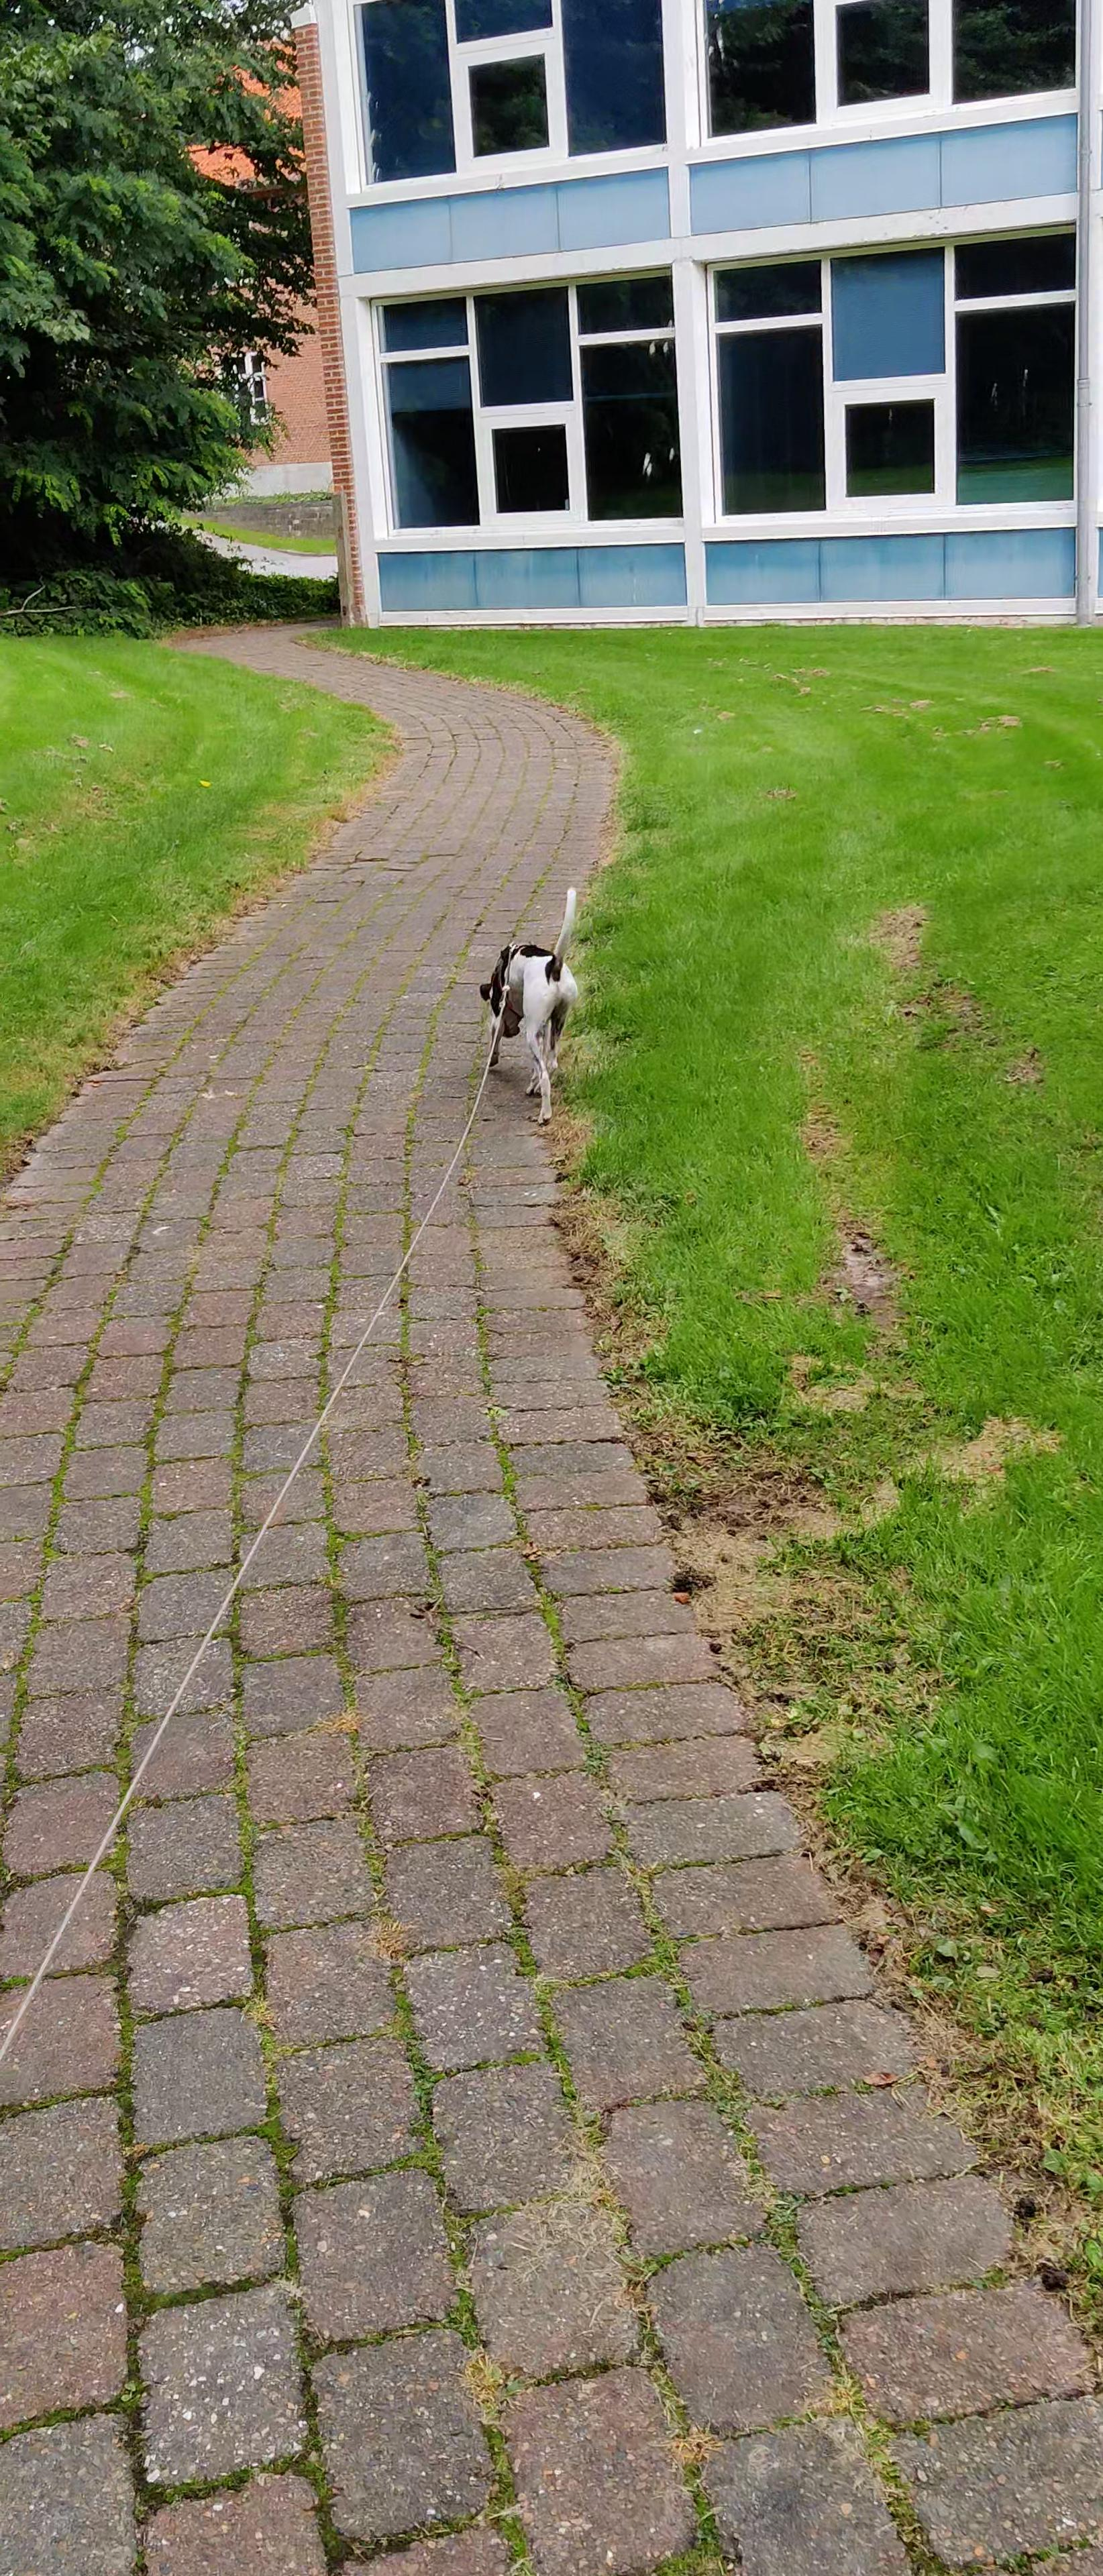Dog: (468, 882, 592, 1125)
